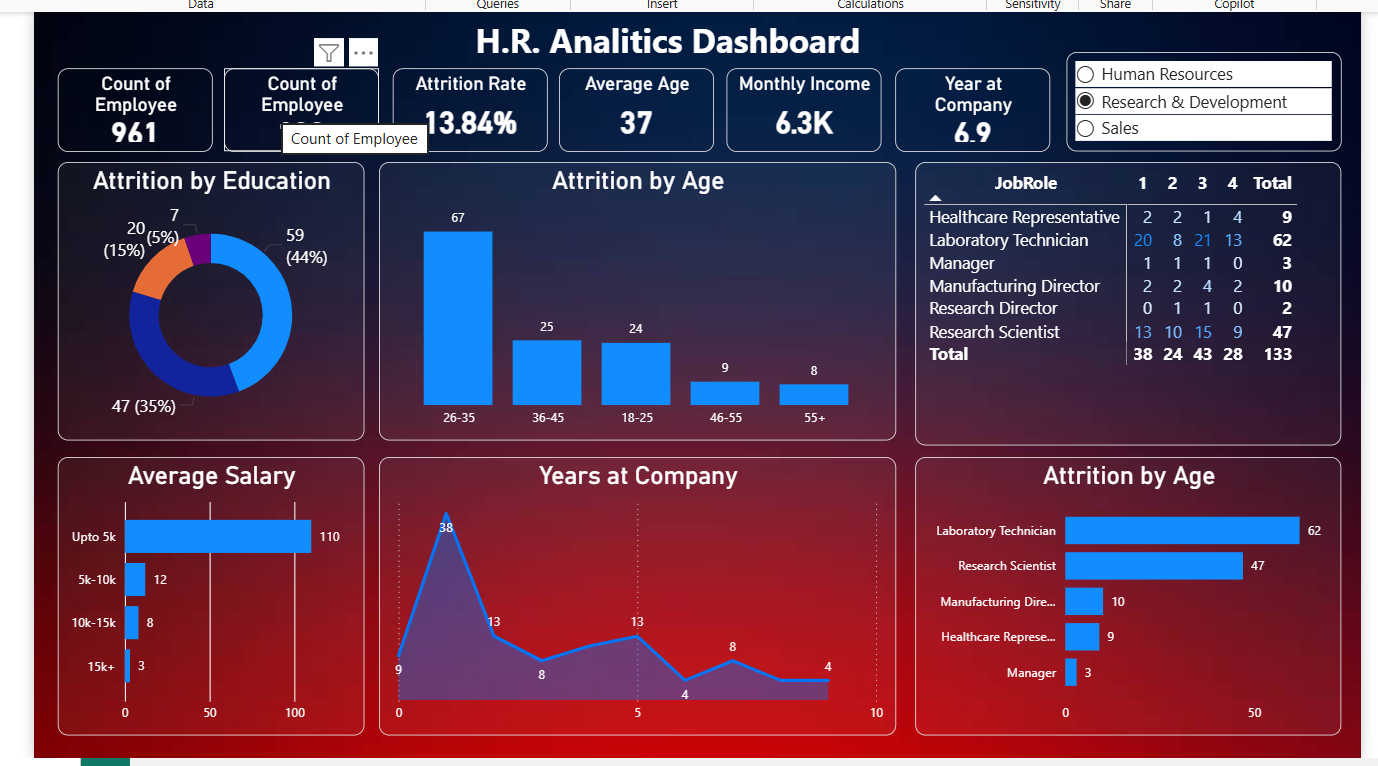

The dashboard page shown, as its layout file describes it:
{"tool":"powerbi","page":{"name":"Page 1","canvas":[1280,720],"ordinal":0},"visuals":[{"type":"card","title":"Count of Employee ","fields":{"Values":["CountNonNull(HR_Analytics.EmpID)"]},"box":[23.5,53.8,149.5,80.6],"z":0},{"type":"card","title":"Count of Employee ","fields":{"Values":["Sum(HR_Analytics.ATTRITION COUNT )"]},"box":[183.1,53.8,149.5,80.6],"z":1000},{"type":"card","title":"Attrition Rate ","fields":{"Values":["HR_Analytics.Attrition rate"]},"box":[346,53.8,149.5,80.6],"z":2000},{"type":"card","title":"Average Age ","fields":{"Values":["Avg(HR_Analytics.Age)"]},"box":[507.3,53.8,149.5,80.6],"z":3000},{"type":"card","title":"Monthly Income  ","fields":{"Values":["Avg(HR_Analytics.MonthlyIncome)"]},"box":[668.6,53.8,149.5,80.6],"z":4000},{"type":"card","title":"Year at Company ","fields":{"Values":["Avg(HR_Analytics.YearsAtCompany)"]},"box":[831.5,53.8,149.5,80.6],"z":5000},{"type":"donutChart","title":"Attrition by Education ","fields":{"Category":["HR_Analytics.EducationField"],"Y":["Sum(HR_Analytics.ATTRITION COUNT )"]},"box":[23.5,144.5,295.6,268.8],"z":6000},{"type":"columnChart","title":"Attrition by Age ","fields":{"Category":["HR_Analytics.AgeGroup"],"Y":["Sum(HR_Analytics.ATTRITION COUNT )"]},"box":[332.6,144.5,498.9,268.8],"z":7000},{"type":"pivotTable","fields":{"Rows":["HR_Analytics.JobRole"],"Values":["Sum(HR_Analytics.ATTRITION COUNT )"],"Columns":["HR_Analytics.JobSatisfaction"]},"box":[850,144.5,411.5,273.8],"z":8000},{"type":"barChart","title":"Average Salary ","fields":{"Category":["HR_Analytics.SalarySlab"],"Y":["Sum(HR_Analytics.ATTRITION COUNT )"]},"box":[23.5,430,295.6,268.8],"z":9000},{"type":"barChart","title":"Attrition by Age ","fields":{"Category":["HR_Analytics.JobRole"],"Y":["Sum(HR_Analytics.ATTRITION COUNT )"]},"box":[850,430,411.5,268.8],"z":10000},{"type":"areaChart","title":"Years at Company ","fields":{"Category":["HR_Analytics.YearsAtCompany"],"Y":["Sum(HR_Analytics.ATTRITION COUNT )"]},"box":[332.6,430,498.9,268.8],"z":11000},{"type":"listSlicer","fields":{"Values":["HR_Analytics.Department"]},"box":[996.1,38.6,265.4,95.7],"z":13000},{"type":"textbox","box":[421.6,0,451.9,53.8],"z":13001}]}

Visuals, with their boxes on the page's 1280x720 design canvas (x1, y1, x2, y2). These are canvas units, not pixel positions in the 1378x766 screenshot, which may show the page scaled, cropped or inside an application window:
"Count of Employee " card: 24 54 173 134
"Count of Employee " card: 183 54 333 134
"Attrition Rate " card: 346 54 496 134
"Average Age " card: 507 54 657 134
"Monthly Income  " card: 669 54 818 134
"Year at Company " card: 832 54 981 134
"Attrition by Education " donutChart: 24 144 319 413
"Attrition by Age " columnChart: 333 144 832 413
pivotTable - HR_Analytics.JobRole x Sum(HR_Analytics.ATTRITION COUNT ): 850 144 1262 418
"Average Salary " barChart: 24 430 319 699
"Attrition by Age " barChart: 850 430 1262 699
"Years at Company " areaChart: 333 430 832 699
listSlicer - HR_Analytics.Department: 996 39 1262 134
textbox: 422 0 874 54
